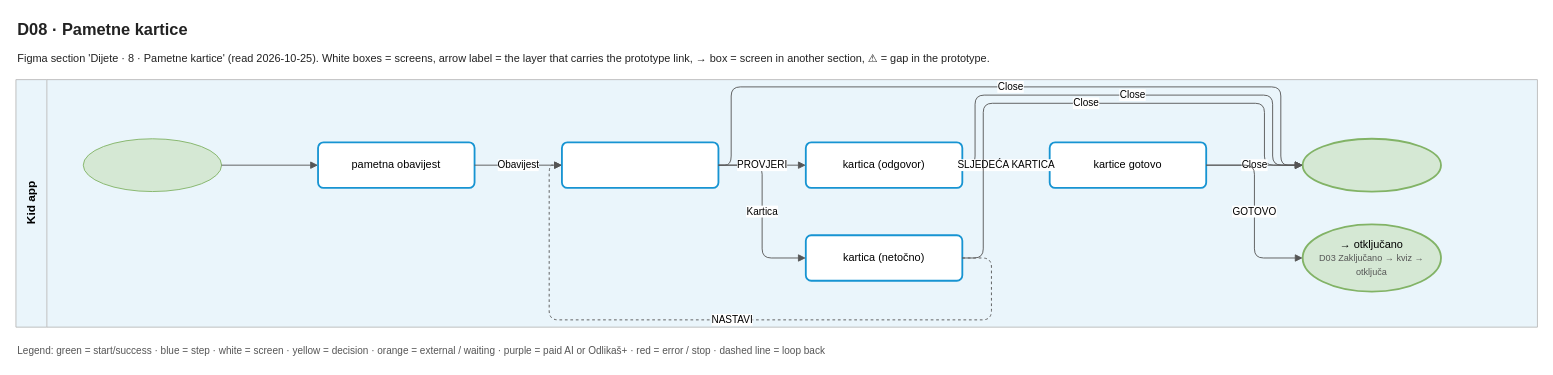
Image size: 1553x375. Some labels were removed from this diagram. The shapes that lost their labels are listed below. From the top down, each one's centre as x and y in pixels, then its label:
pixel 152 165: Push: mistakes or a 1–2 grade
pixel 640 164: kartica (pitanje)
pixel 1371 164: → početna D02 Početna i navigacija
